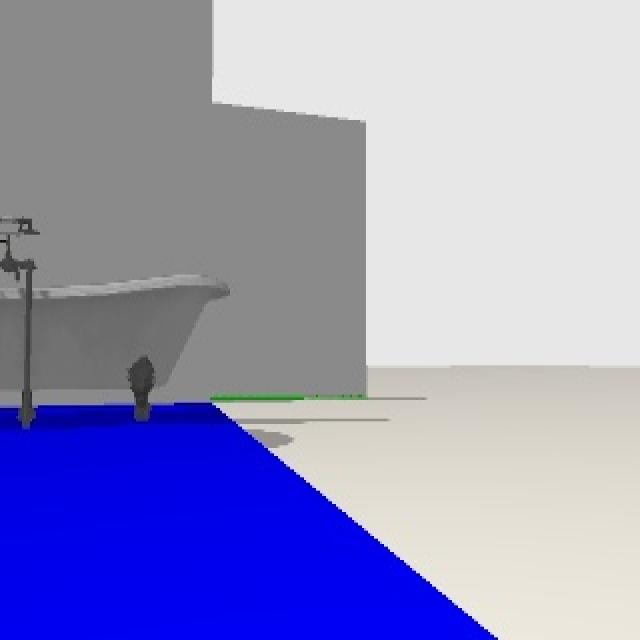bathtub: (0, 213, 232, 424)
